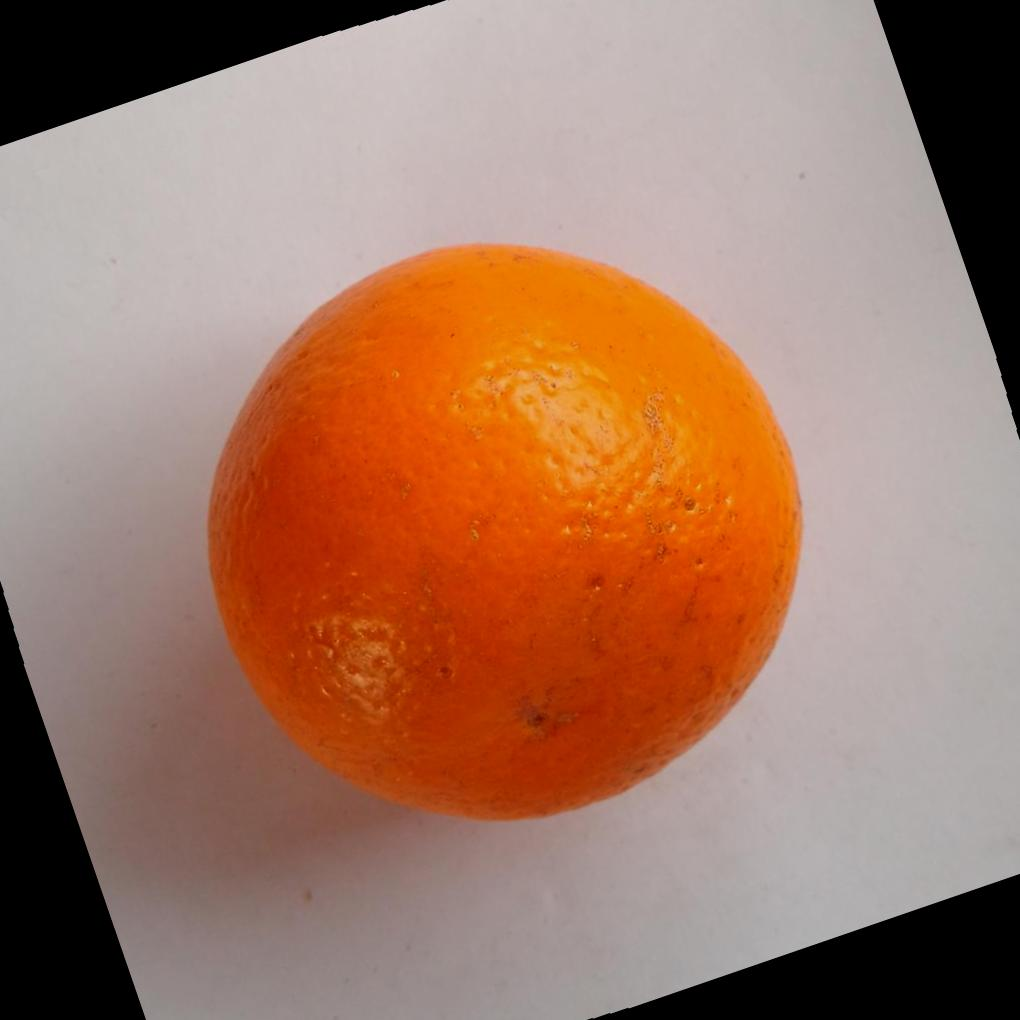FreshGuava: (206, 243, 806, 827)
